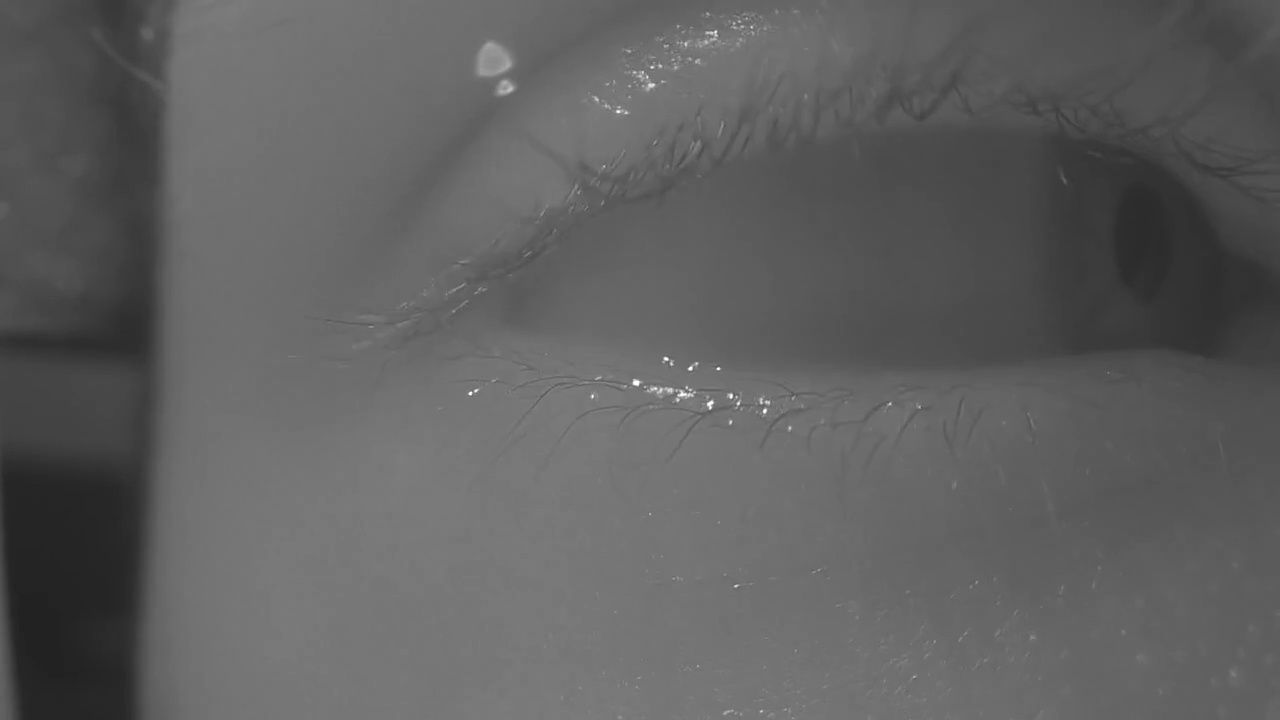pupil: (1116, 185, 1168, 302)
